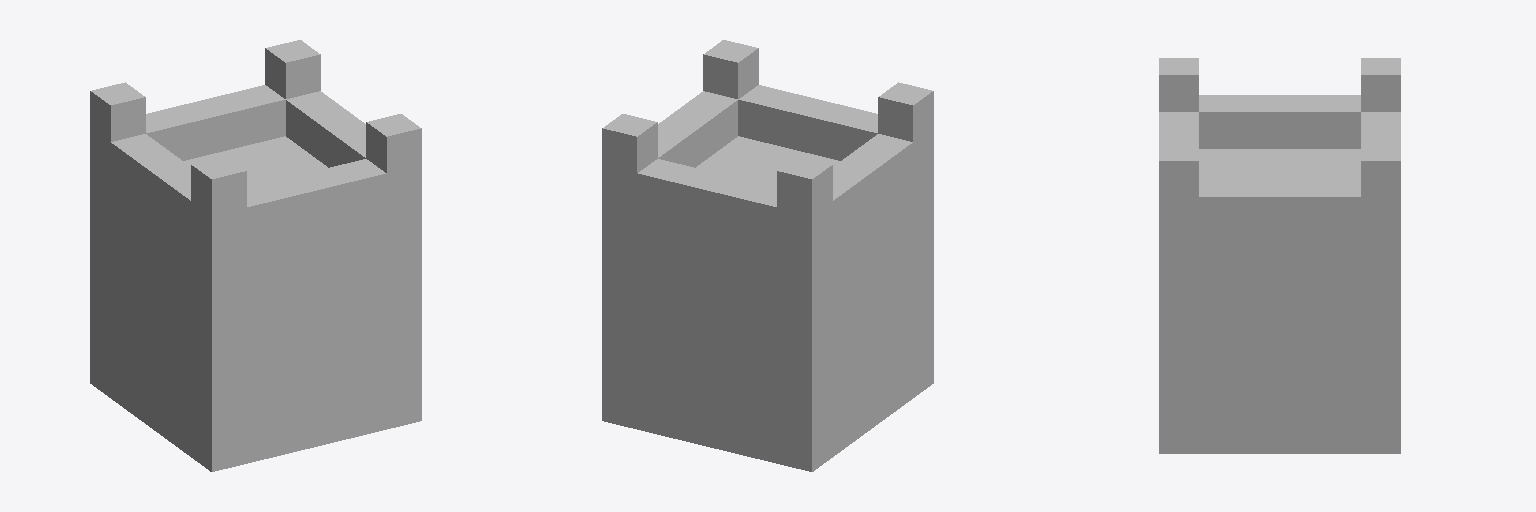
The model's file is conquer_keep.obj.
3 views of the same model, side by side, from view 1: azimuth 30°, elevation 25°; view 2: azimuth 150°, elevation 25°; view 3: azimuth 270°, elevation 25° (orthographic).
Parts seen in each view (by area): view 1: Cube_Cube.004; view 2: Cube_Cube.004; view 3: Cube_Cube.004.
Boxes of the visible parts, box(x1,y1,x2,y2) form: Cube_Cube.004: box(90, 40, 421, 471); Cube_Cube.004: box(602, 40, 933, 471); Cube_Cube.004: box(1159, 58, 1400, 453).
Bounding box in the file's own units: 0.75 × 1 × 0.75.